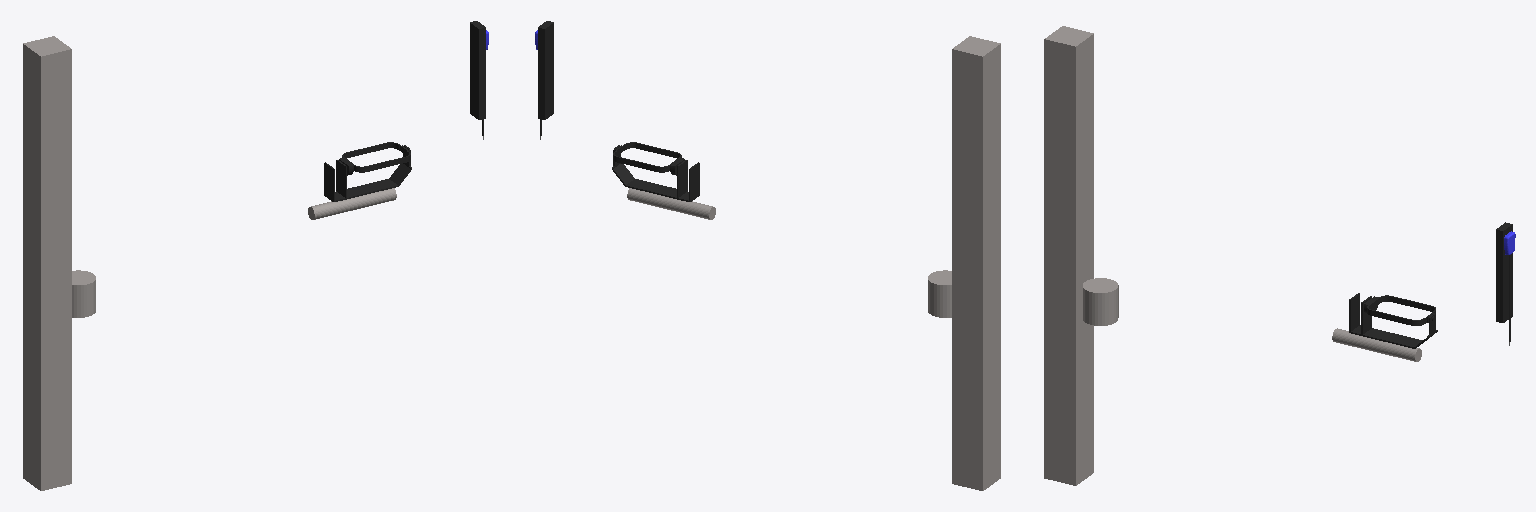
URDF robot description (p4):
<?xml version="1.0"?>
<robot name="p4">
    <link name="tower">
        <visual>
            <origin xyz="0.0 0.0 1.00"/>
            <geometry>
                <box size="0.15 0.15 2.00" />
            </geometry>
            <material name="surgical gray">
                <color rgba="0.67 0.65 0.64 1.0" />
            </material>
        </visual>
    </link>

    <link name="p4-arm_base">
        <visual>
            <origin xyz="0.074 0.0 0.075" />
            <geometry>
                <cylinder radius="0.074" length="0.150" />
            </geometry>
            <material name="surgical gray" />
        </visual>
    </link>

    <link name="p4-arm1">
        <visual>
            <geometry>
                <mesh filename="package://davinci_description/meshes/p4-arm1.stl" scale="0.001 0.001 0.001"/>
            </geometry>
            <material name="surgical gray" />
        </visual>
    </link>

    <link name="p4-arm2">
        <visual>
            <geometry>
                <mesh filename="package://davinci_description/meshes/p4-arm2.stl" scale="0.001 0.001 0.001"/>
            </geometry>
            <material name="surgical gray" />
        </visual>
    </link>

    <link name="p4-arm3">
        <visual>
            <geometry>
                <mesh filename="package://davinci_description/meshes/p4-arm3.stl" scale="0.001 0.001 0.001"/>
            </geometry>
            <material name="surgical gray" />
        </visual>
    </link>

    <link name="p4-arm4">
        <visual>
            <geometry>
                <cylinder radius="0.029" length="0.3947" />
            </geometry>
            <origin xyz="0.19735 0.0 -0.14695" rpy="0 1.57080 0"/>
            <material name="surgical gray" />
        </visual>
    </link>

    <link name="p4-hand1">
        <visual>
            <geometry>
                <mesh filename="package://davinci_description/meshes/hand1.stl" scale="0.001 0.001 0.001"/>
                <!-- <box size="0.375 0.095 0.155" /> -->
            </geometry>
            <!-- <origin xyz="-0.08 0.0 0.08625"/> -->
            <material name="slate">
                <color rgba="0.2 0.2 0.2 1"/>
           </material>
        </visual>
    </link>

    <link name="p4-hand2">
        <visual>
            <geometry>
                <mesh filename="package://davinci_description/meshes/hand2.stl" scale="0.001 0.001 0.001"/>
            </geometry>
            <material name="slate" />
        </visual>
    </link>

    <link name="p4-hand3">
        <visual>
            <geometry>
                <box size="0.035 0.08 0.42" />
            </geometry>
            <origin xyz="-0.0175 0.0 0.286" />
            <material name="slate" />
        </visual>
    </link>

    <link name="instrument_head">
        <visual>
            <geometry>
                <mesh filename="package://davinci_description/meshes/inst.stl" scale="0.001 0.001 0.001"/>
            </geometry>
            <material name="blue">
                    <color rgba="0.3 0.3 1 1"/>
           </material>
        </visual>
    </link>

    <link name="instrument_spear">
        <visual>
            <geometry>
                <cylinder radius="0.004" length="0.4" />
            </geometry>
            <origin xyz="0.2 0 0" rpy="0 1.57075 0"/>
            <material name="slate" />
        </visual>
    </link>

    <link name="instrument_palm">
        <visual>
            <geometry>
                <cylinder radius="0.003" length="0.01" />
            </geometry>
            <origin xyz="0.005 0 0" rpy="0 1.57075 0" />
            <material name="gray">
                <color rgba="0.5 0.5 0.5 1"/>
            </material>
        </visual>
    </link>

    <link name="index_finger">
        <visual>
            <geometry>
                <cylinder radius="0.001" length="0.01" />
            </geometry>
            <origin xyz="0.005 -0.001 0" rpy="0 1.57075 0" />
            <material name="gray" />
        </visual>
    </link>

    <link name="thumb">
        <visual>
            <geometry>
                <cylinder radius="0.001" length="0.01" />
            </geometry>
            <origin xyz="0.005 0.001 0" rpy="0 1.57075 0" />
            <material name="gray" />
        </visual>
    </link>
     

    <joint name="p4-arm3_slide" type="prismatic">
        <parent link="tower" />
        <child link="p4-arm_base" />
        <axis xyz="0 0 1" />
        <origin xyz="0.075 0 0" />
        <limit lower="0.5" upper="1.0" effort="10" velocity="1" />
    </joint>

    <joint name="p4-yaw1" type="revolute">
        <parent link="p4-arm_base" />
        <child link="p4-arm1" />
        <origin xyz="0.074 0.0 0.150" />
        <axis xyz="0 0 1"/>
        <limit lower="-1.57080" upper="1.57080" effort="10" velocity="1" />
    </joint>

    <joint name="p4-yaw2" type="revolute">
        <parent link="p4-arm1" />
        <child link="p4-arm2" />
        <origin xyz="0.58285 0.0 -0.015" />
        <axis xyz="0 0 1"/>
        <limit lower="-1.57080" upper="1.57080" effort="10" velocity="1" />
    </joint>

    <joint name="p4-yaw3" type="revolute">
        <parent link="p4-arm2" />
        <child link="p4-arm3" />
        <origin xyz="0.47985 0.0 0.0" />
        <axis xyz="0 0 1"/>
        <limit lower="-1.57080" upper="1.57080" effort="10" velocity="1" />
    </joint>

    <joint name="p4-roll1" type="revolute">
        <parent link="p4-arm3" />
        <child link="p4-arm4" />
        <origin xyz="0.05775 0.0 0.19725" />
        <axis xyz="1 0 0"/>
        <limit lower="-1.57080" upper="1.57080" effort="10" velocity="1" />
    </joint>

    <joint name="p4-yaw4" type="revolute">
        <parent link="p4-arm4" />
        <child link="p4-hand1" />
        <origin xyz="0.3495 0.0 -0.11045" />
        <axis xyz="0 0 1"/>
        <limit lower="-1.57080" upper="1.57080" effort="10" velocity="1" />
    </joint>

    <joint name="p4-roll2" type="revolute">
        <parent link="p4-hand1" />
        <child link="p4-hand2" />
        <origin xyz="0.1075 0.0 0.14775" />
        <axis xyz="1 0 0"/>
        <limit lower="-1.57080" upper="1.57080" effort="10" velocity="1" />
    </joint>

    <joint name="p4-pitch1" type="revolute">
        <parent link="p4-hand2" />
        <child link="p4-hand3" />
        <origin xyz="0.363 0.0 0.0"/>
        <axis xyz="0 1 0"/>
        <limit lower="-0.78540" upper="0" effort="10" velocity="1" />
    </joint>

    <joint name="instrument_slide" type="prismatic">
        <parent link="p4-hand3" />
        <child link="instrument_head" />
        <axis xyz="1 0 0" />
        <origin xyz="0.0 0.0 0.45" rpy="0.0 1.57080 0.0"/>
        <limit lower="0" upper="0.2" effort="10" velocity="1" />
    </joint>

    <joint name="spear_swivel" type="revolute">
        <parent link="instrument_head" />
        <child link="instrument_spear" />
        <origin xyz="0.07 0 0.008" />
        <axis xyz="1 0 0" />
        <limit lower="-3.14159" upper="3.14159" effort="10" velocity="1" />
    </joint>

    <joint name="wrist" type="revolute">
        <parent link="instrument_spear" />
        <child link="instrument_palm" />
        <axis xyz="0 1 0" />
        <origin xyz="0.4 0 0" />
        <limit lower="-0.26180" upper="0.26180" effort="10" velocity="1" />
    </joint>

    <joint name="jaw" type="revolute">
        <parent link="index_finger" />
        <child link="thumb" />
        <axis xyz="0 0 1" />
        <limit lower="0" upper="0.52360" effort="10" velocity="1" />
    </joint>

    <joint name="index_joint" type="revolute">
        <parent link="instrument_palm" />
        <child link="index_finger" />
        <axis xyz="0 0 1" />
        <origin xyz="0.01 0 0" />
        <limit lower="-0.26180" upper="0.26180" effort="10" velocity="1" />
    </joint>

</robot>

--- What the picture shows (computed from the rendered views, not written in the file) ---
Views: 3 orthographic renders of the robot side by side, from view 1: azimuth 30°, elevation 25°; view 2: azimuth 150°, elevation 25°; view 3: azimuth 330°, elevation 25°.
Robot: p4 — 14 links, 13 joints (11 revolute, 2 prismatic); root link tower; default pose: joints at zero except 1 at the middle of their limits (p4-arm3_slide = 0.75).
Visible links, largest first — view 1: tower, p4-hand1, p4-hand3, p4-arm4, p4-arm_base, p4-hand2; view 2: tower, p4-hand1, p4-hand3, p4-arm4, p4-arm_base, p4-hand2; view 3: tower, p4-arm_base, p4-hand1, p4-hand3, p4-arm4, p4-hand2.
Link boxes in pixels (box(x1,y1,x2,y2)): tower: box(23, 36, 71, 490); p4-hand1: box(324, 145, 411, 201); p4-hand3: box(470, 21, 485, 119); p4-arm4: box(308, 188, 396, 219); p4-arm_base: box(72, 270, 95, 317); p4-hand2: box(339, 142, 410, 175); tower: box(952, 36, 1000, 490); p4-hand1: box(612, 145, 699, 201); p4-hand3: box(538, 21, 553, 119); p4-arm4: box(627, 188, 715, 219); p4-arm_base: box(928, 270, 951, 317); p4-hand2: box(613, 142, 684, 175); tower: box(1044, 26, 1093, 485); p4-arm_base: box(1083, 278, 1118, 325); p4-hand1: box(1349, 293, 1437, 348); p4-hand3: box(1496, 222, 1512, 322); p4-arm4: box(1332, 328, 1421, 361); p4-hand2: box(1364, 295, 1435, 325).
Size in the robot's own frame: 2.18 by 0.165 by 2 metres.
Meshes: 6 distinct files referenced, 3 mesh visuals loaded (3 binary STL); not drawn: 3 (reference not matched to a file when rendering).
